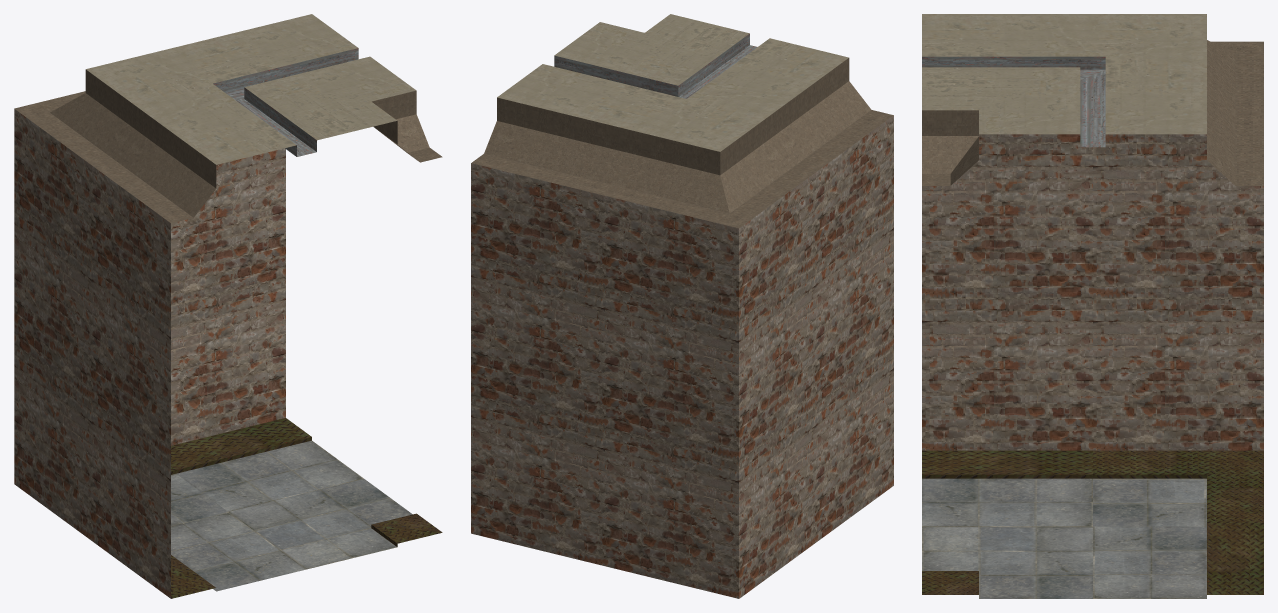
Rendered from 3x3_corner_hallway.fbx.
The picture shows the model from 3 angles, left to right: view 1: azimuth 30°, elevation 25°; view 2: azimuth 150°, elevation 25°; view 3: azimuth 270°, elevation 25°; orthographic projection. The views are drawn at different scales.
Visible parts, largest first — view 1: 3x3CornerPieceHallwayModel; view 2: 3x3CornerPieceHallwayModel; view 3: 3x3CornerPieceHallwayModel.
Part boxes in pixels (x1=…): 3x3CornerPieceHallwayModel: x1=14, y1=14, x2=442, y2=598; 3x3CornerPieceHallwayModel: x1=471, y1=14, x2=893, y2=598; 3x3CornerPieceHallwayModel: x1=922, y1=14, x2=1263, y2=598.
Size of the model in its own units: 300 by 450 by 300.
